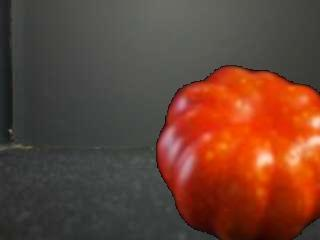Pumpkin: (155, 64, 320, 240)
